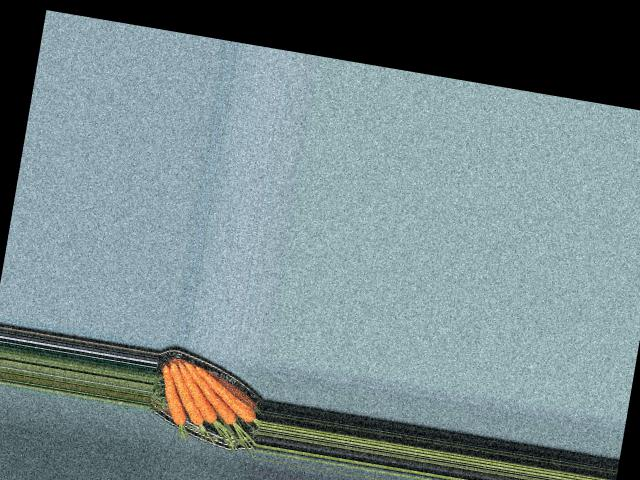carrot: (152, 364, 189, 424)
